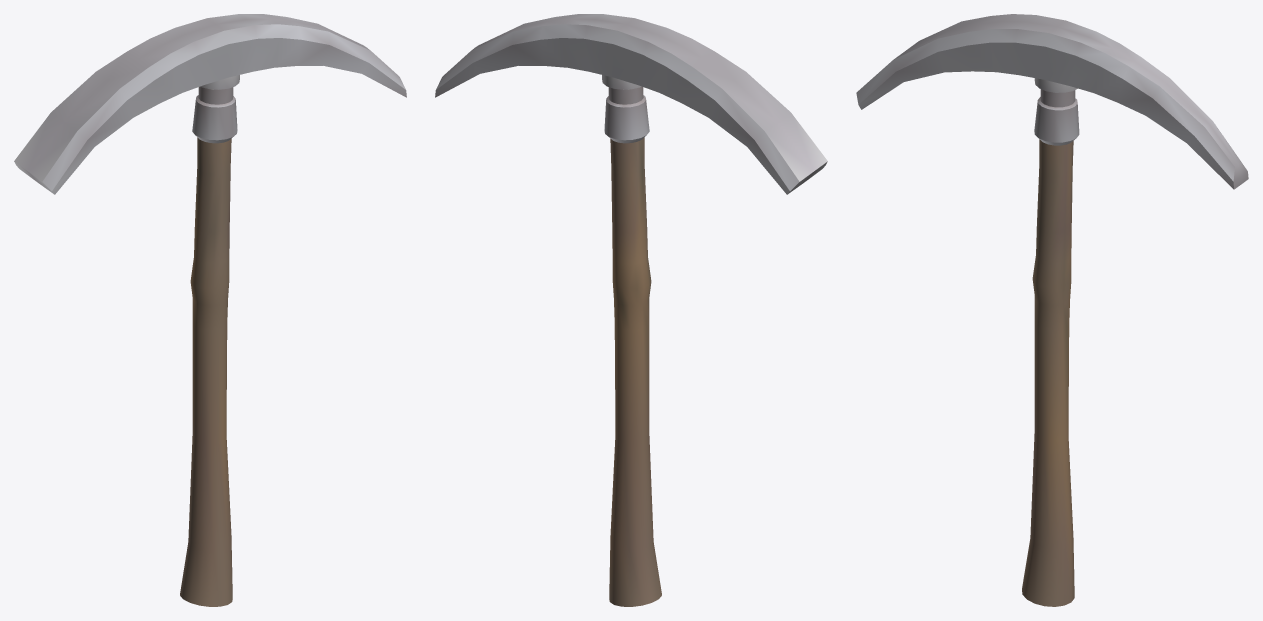
File: Pickaxe_Bronze.glb
The picture shows the model from 3 angles, left to right: view 1: azimuth 30°, elevation 25°; view 2: azimuth 150°, elevation 25°; view 3: azimuth 330°, elevation 25°; orthographic projection.
Parts seen in each view (by area): view 1: Pickaxe_Bronze; view 2: Pickaxe_Bronze; view 3: Pickaxe_Bronze.
Boxes of the visible parts, box(x1,y1,x2,y2) form: Pickaxe_Bronze: box(14, 14, 406, 606); Pickaxe_Bronze: box(435, 14, 827, 606); Pickaxe_Bronze: box(856, 14, 1248, 606).
Bounding box in the file's own units: 0.8129 × 1.2 × 0.1357.
